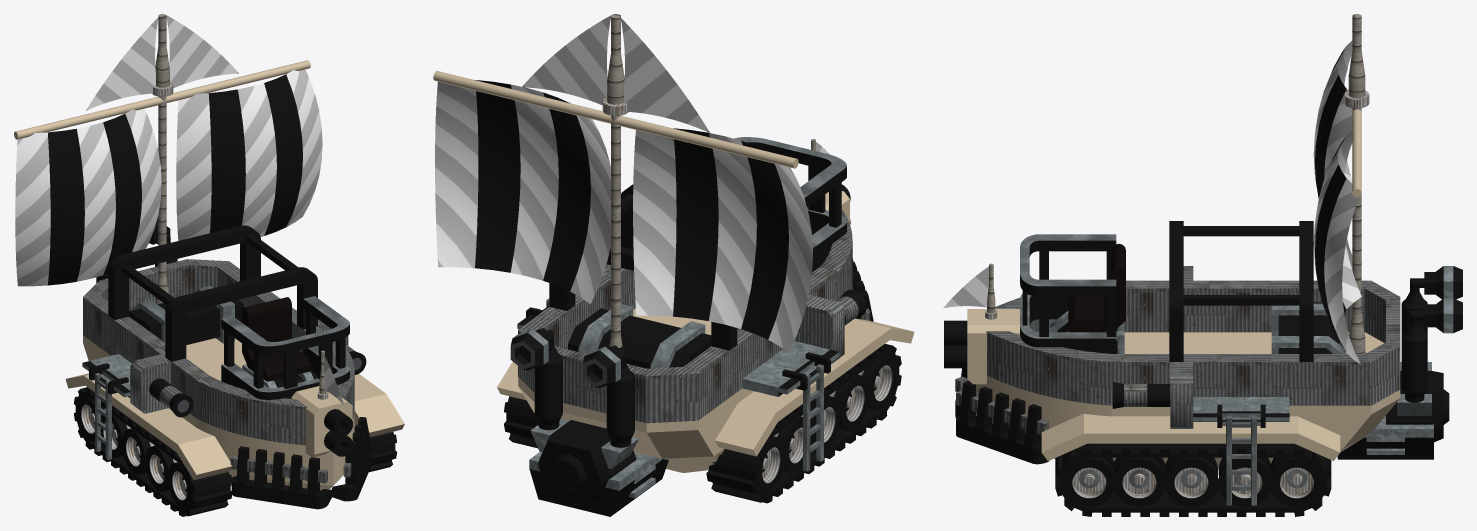
File: Tank_Boat 1.fbx
The picture shows the model from 3 angles, left to right: view 1: azimuth 30°, elevation 25°; view 2: azimuth 150°, elevation 25°; view 3: azimuth 270°, elevation 25°; orthographic projection. The views are drawn at different scales.
Visible parts, largest first — view 1: sail_stripesVertical (×2), detail_rollbarLarge, hut_open, bumper_grill (×2), wheel_coverSquareExtended (×3), rail_backEdge, rail_frontSmooth, sail_triangle (×2), wheel_tank (×5), mast_middle (×4), track_wideSide (×3), blaster_barrelDouble (+11 smaller); view 2: sail_stripesVertical (×2), rail_backEdge, sail_triangle (×2), wheel_coverSquareExtended (×3), wheel_tank (×5), steam_engine_front, mast_middle (×4), track_wideSide (×3), hull_backEdge, detail_luggage, hut_open, detail_exhaustVertical (×2) (+11 smaller); view 3: wheel_tank (×5), rail_backEdge, rail, sail_stripesVertical (×2), hut_open, wheel_coverSquareExtended (×2), detail_rollbarLarge, rail_frontSmooth, bumper_grill, track_wideSide (×2), hull_backEdge, hull (+15 smaller).
Part boxes in pixels (bbox=[...]): sail_stripesVertical (×2): bbox=[15, 69, 322, 286]; detail_rollbarLarge: bbox=[108, 225, 317, 361]; hut_open: bbox=[221, 296, 349, 399]; bumper_grill (×2): bbox=[230, 417, 372, 509]; wheel_coverSquareExtended (×3): bbox=[65, 373, 404, 480]; rail_backEdge: bbox=[83, 259, 279, 363]; rail_frontSmooth: bbox=[197, 346, 354, 445]; sail_triangle (×2): bbox=[86, 15, 238, 110]; wheel_tank (×5): bbox=[77, 396, 190, 508]; mast_middle (×4): bbox=[14, 60, 310, 245]; track_wideSide (×3): bbox=[73, 387, 397, 516]; blaster_barrelDouble: bbox=[291, 386, 352, 457]; sail_stripesVertical (×2): bbox=[435, 80, 812, 352]; rail_backEdge: bbox=[518, 288, 760, 423]; sail_triangle (×2): bbox=[522, 15, 709, 132]; wheel_coverSquareExtended (×3): bbox=[497, 318, 914, 456]; wheel_tank (×5): bbox=[757, 355, 896, 493]; steam_engine_front: bbox=[530, 419, 638, 505]; mast_middle (×4): bbox=[433, 71, 798, 300]; track_wideSide (×3): bbox=[504, 343, 901, 503]; hull_backEdge: bbox=[518, 377, 753, 472]; detail_luggage: bbox=[568, 304, 711, 368]; hut_open: bbox=[734, 137, 846, 271]; detail_exhaustVertical (×2): bbox=[534, 329, 634, 447]; wheel_tank (×5): bbox=[1063, 457, 1322, 507]; rail_backEdge: bbox=[1256, 280, 1400, 405]; rail: bbox=[1111, 280, 1255, 405]; sail_stripesVertical (×2): bbox=[1313, 40, 1361, 365]; hut_open: bbox=[1020, 234, 1116, 353]; wheel_coverSquareExtended (×2): bbox=[1041, 414, 1340, 460]; detail_rollbarLarge: bbox=[1169, 221, 1313, 361]; rail_frontSmooth: bbox=[986, 298, 1111, 405]; bumper_grill: bbox=[956, 381, 1049, 464]; track_wideSide (×2): bbox=[1055, 443, 1331, 516]; hull_backEdge: bbox=[1256, 332, 1400, 463]; hull: bbox=[1111, 332, 1255, 469].
Bounding box in the file's own units: 42 × 50.9 × 54.
